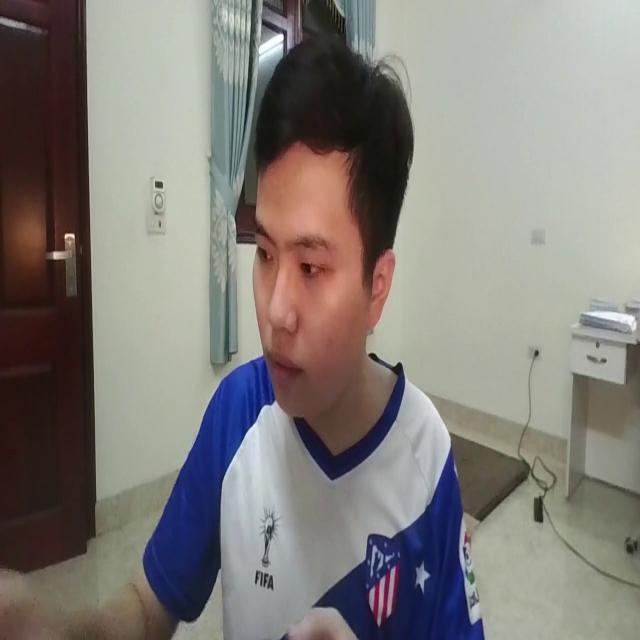student: (118, 37, 488, 640)
